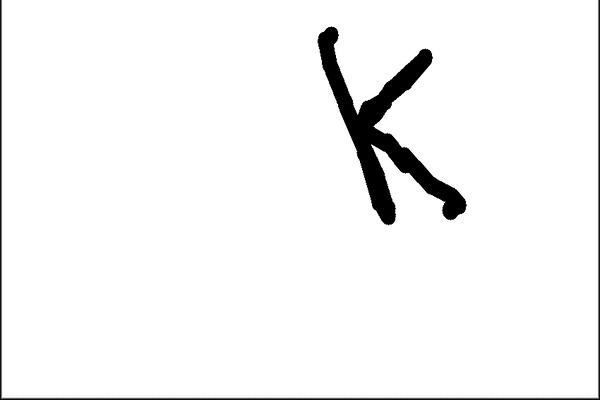K: (309, 22, 474, 225)
